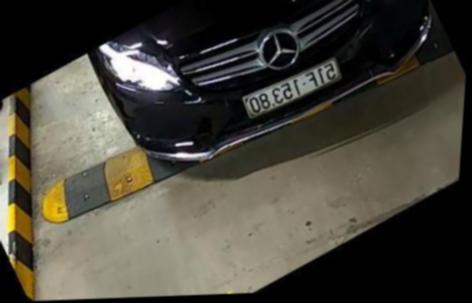License_Plate: (240, 47, 349, 123)
